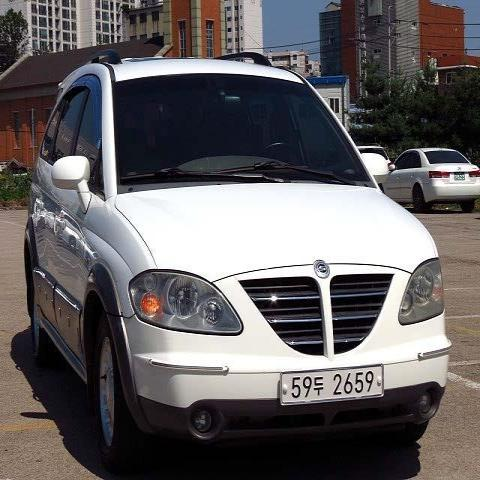LP: (277, 360, 385, 412)
